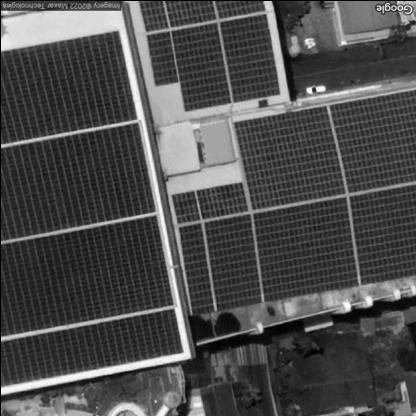solar-pv-panel: (0, 30, 184, 386), (170, 89, 416, 316), (139, 0, 279, 109)
